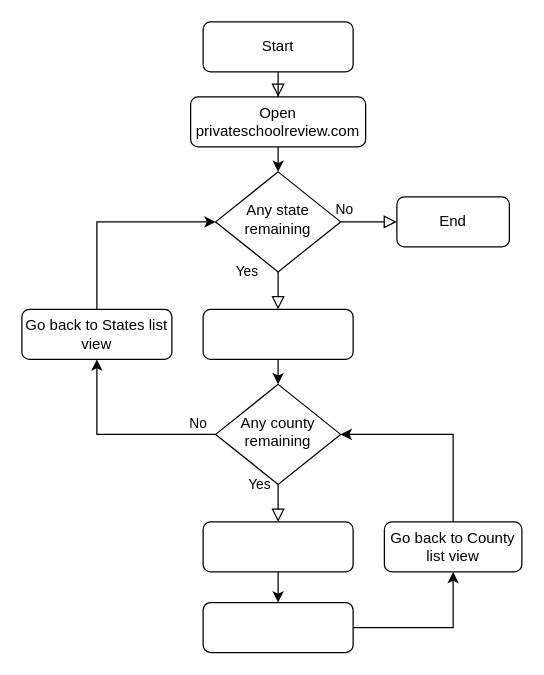
Some shapes in this 544 by 675 pixel diagram are drawn without their labels. The shapes that lost their labels are listed below. From the top down, each one's centre as x and y in pixels, then its label:
At pixel 277 333: "Select state".
At pixel 277 546: "Select county".
At pixel 277 626: "Copy data of each school to excel".
